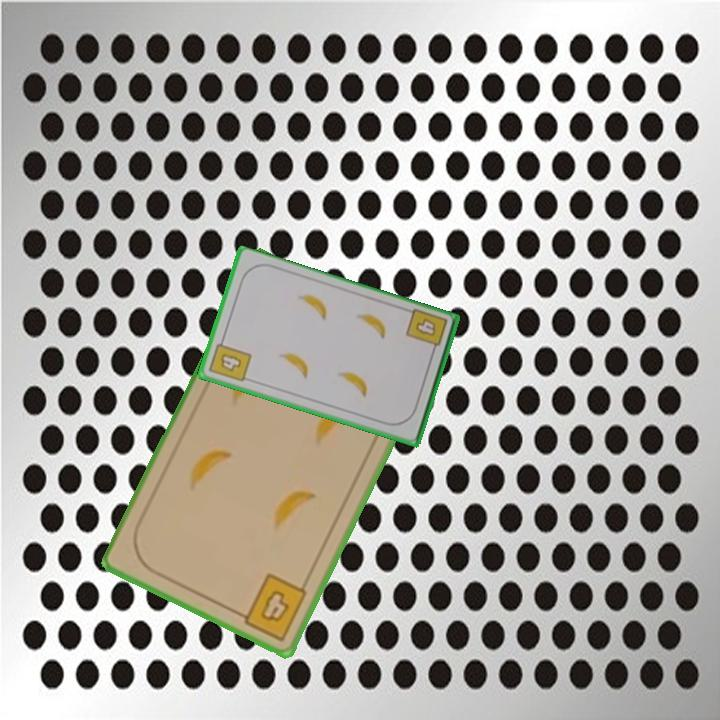4b: (232, 570, 310, 644), (402, 306, 450, 358), (206, 334, 254, 385)
